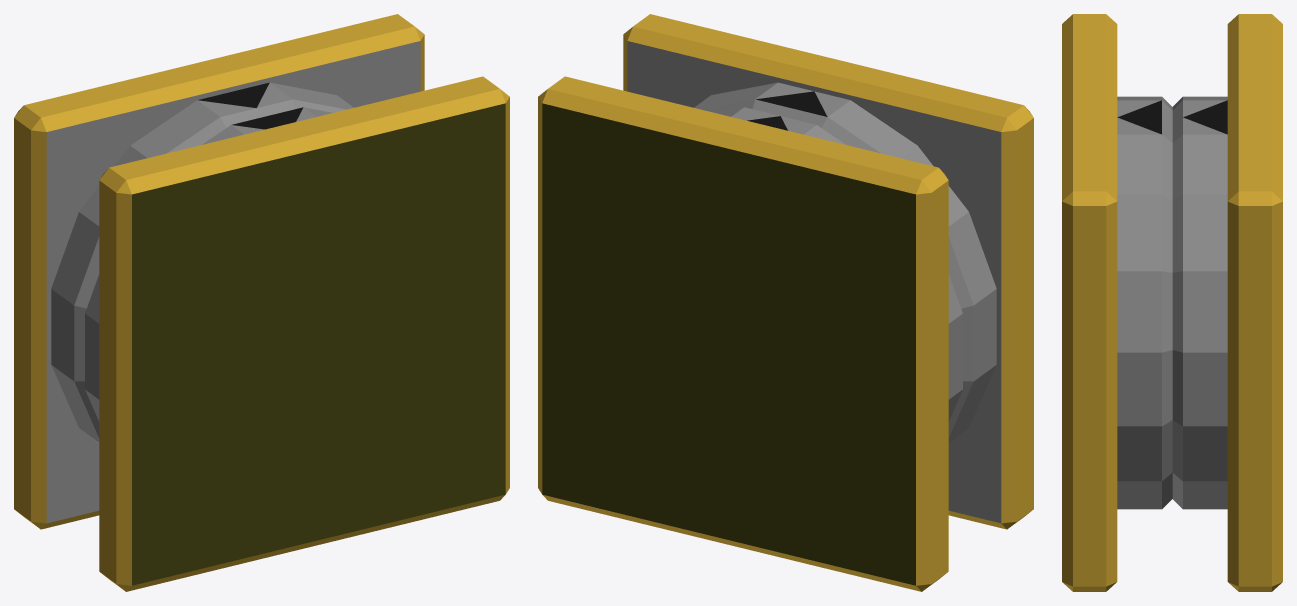
File: Rotor1.fbx
3 views of the same model, side by side, from view 1: azimuth 30°, elevation 25°; view 2: azimuth 150°, elevation 25°; view 3: azimuth 270°, elevation 25° (orthographic). The views are drawn at different scales.
Visible parts, largest first — view 1: Circle.001, Circle; view 2: Circle, Circle.001; view 3: Circle.001, Circle.
Part boxes in pixels (left/top/right/bottom): Circle.001: left=85, top=76, right=509, bottom=591; Circle: left=14, top=14, right=424, bottom=529; Circle: left=538, top=76, right=962, bottom=591; Circle.001: left=623, top=14, right=1033, bottom=529; Circle.001: left=1062, top=14, right=1172, bottom=591; Circle: left=1172, top=14, right=1282, bottom=591.
Bounding box in the file's own units: 2 × 2 × 1.
